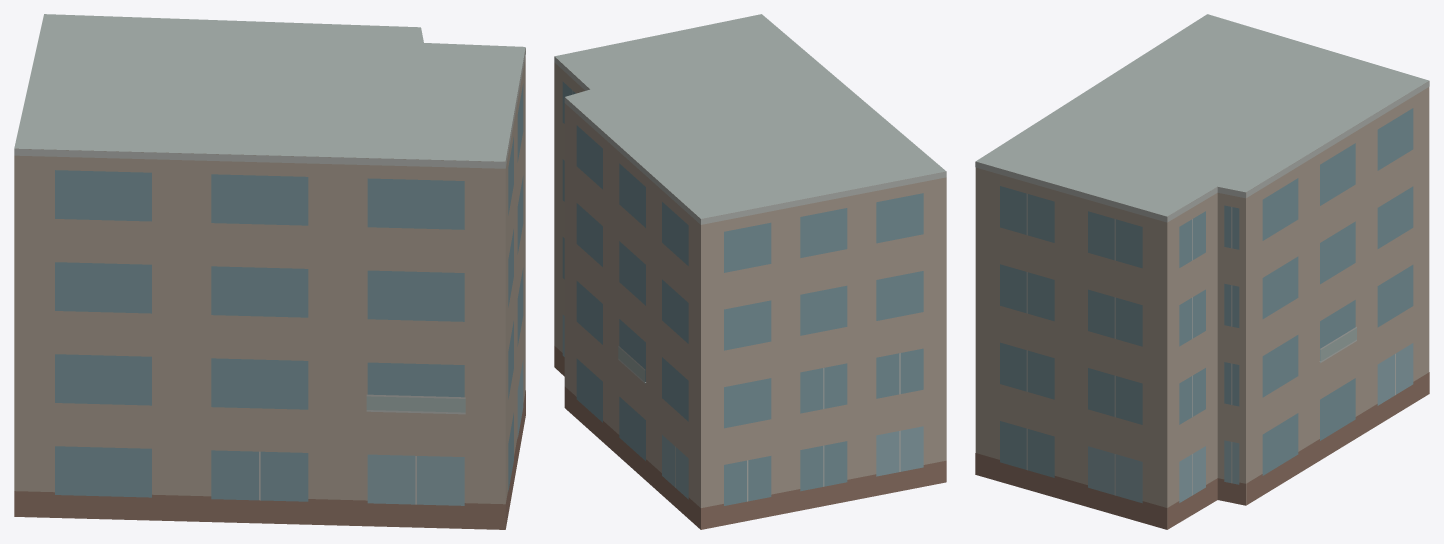
Rendered from survey-upis-32836786.glb.
The picture shows the model from 3 angles, left to right: view 1: azimuth 30°, elevation 25°; view 2: azimuth 150°, elevation 25°; view 3: azimuth 270°, elevation 25°; orthographic projection. The views are drawn at different scales.
Parts seen in each view (by area): view 1: survey-upis-32836786.tmp; view 2: survey-upis-32836786.tmp; view 3: survey-upis-32836786.tmp.
Boxes of the visible parts, left/top/right/bottom form: survey-upis-32836786.tmp: left=14, top=14, right=525, bottom=529; survey-upis-32836786.tmp: left=554, top=14, right=946, bottom=529; survey-upis-32836786.tmp: left=975, top=14, right=1429, bottom=529.
Size of the model in its own units: 17.77 by 12.8 by 16.82.
